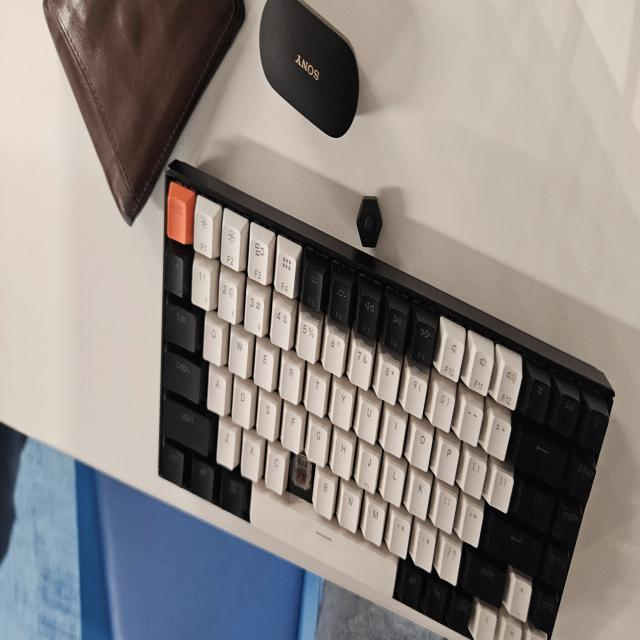C: (290, 458, 312, 501), (290, 460, 310, 498)
